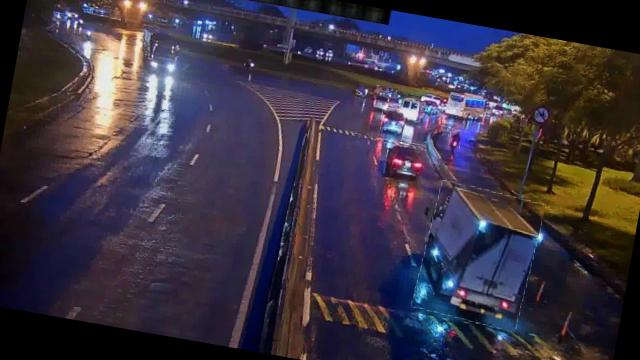Bike: (448, 130, 462, 152)
Car: (384, 139, 426, 180), (380, 106, 406, 132)
Truck: (412, 180, 544, 331)
